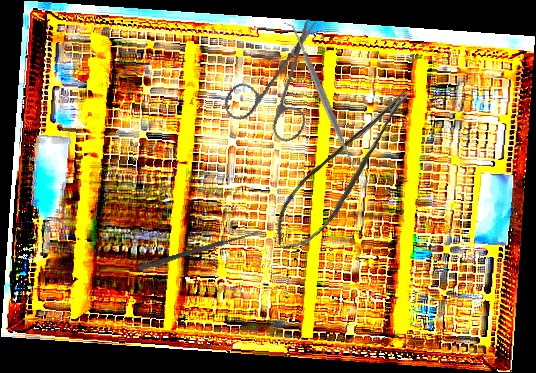Iris Scissors: (207, 16, 349, 157)
Micro Scissor: (257, 85, 436, 260)
Spatula Surgical: (281, 16, 364, 176)
Surgical Spoon: (137, 228, 264, 272)
